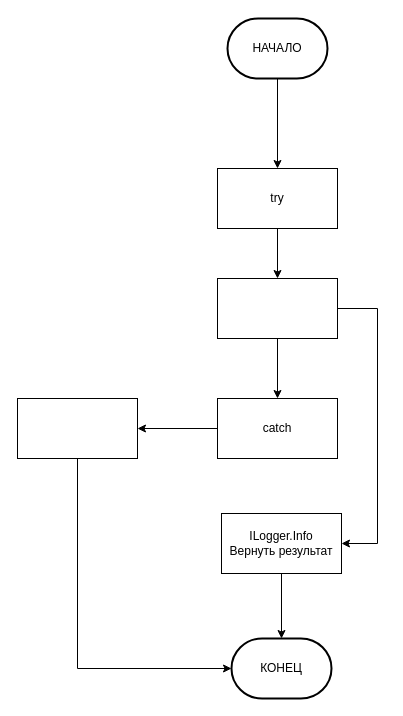
Some shapes in this 403 by 716 pixel diagram are drawn without their labels. Here are the shapes that lost their labels. From the top down, the box of each, then its label:
(216, 278, 338, 338): Сохранить состояние в базе данных
(16, 398, 138, 458): ILogger.Error return Exception
